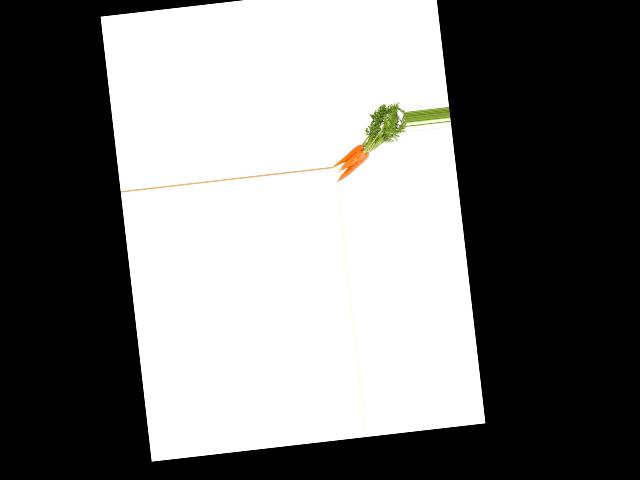carrot: (331, 143, 364, 168)
